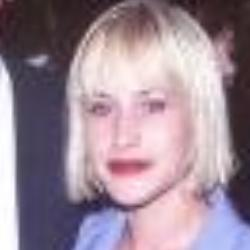face: (37, 1, 238, 214)
